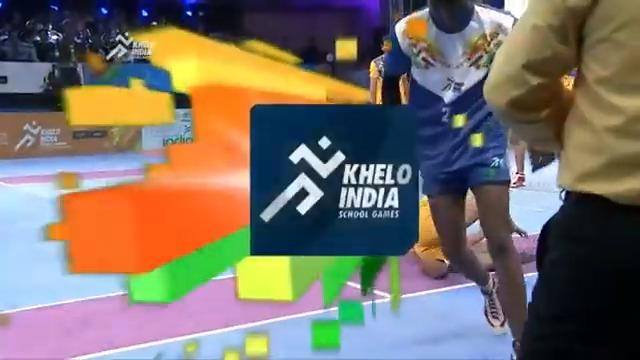Player: (375, 2, 531, 353)
referee: (482, 0, 639, 358)
